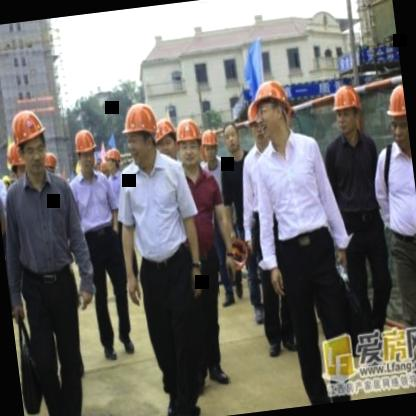head: (221, 115, 243, 155)
helmet: (248, 73, 296, 150), (7, 103, 50, 181), (120, 99, 162, 166), (330, 82, 366, 143), (381, 79, 410, 153), (243, 86, 275, 150), (174, 116, 204, 170), (0, 136, 30, 189), (152, 111, 182, 161), (72, 126, 100, 176), (200, 127, 221, 166), (103, 141, 124, 176)
